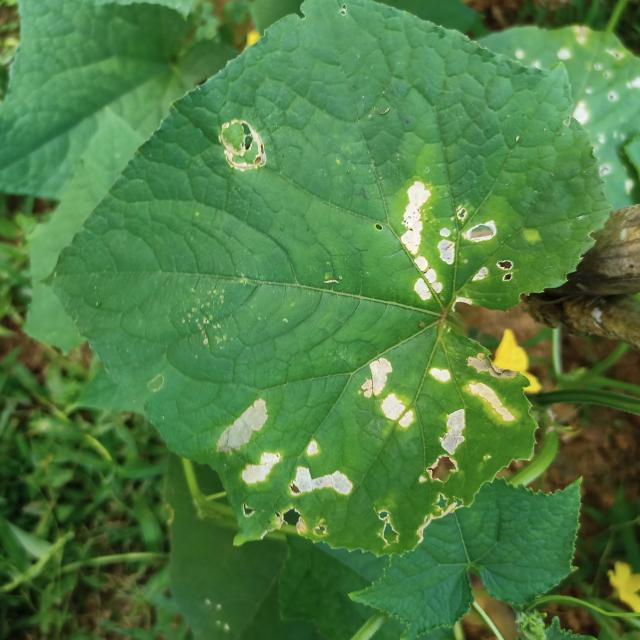disease_cucumber: (391, 177, 516, 314), (424, 350, 524, 481), (208, 393, 285, 492), (285, 438, 365, 508), (356, 355, 418, 436)
